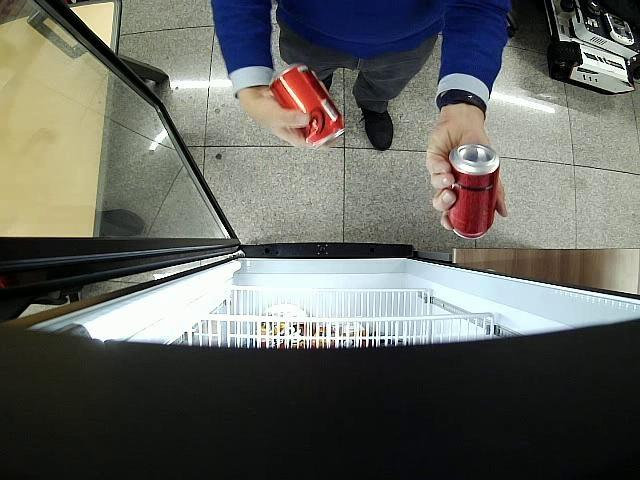11_cocaColaZero: (272, 63, 343, 148), (450, 142, 500, 239)
